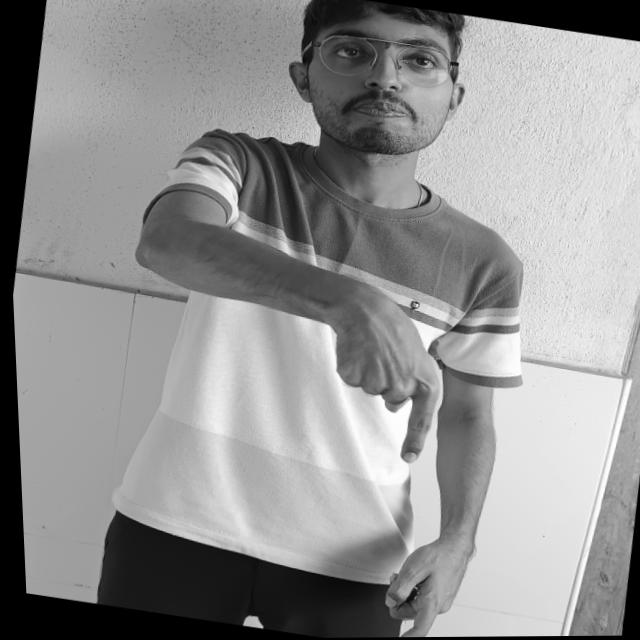Now: (271, 269, 489, 478)
